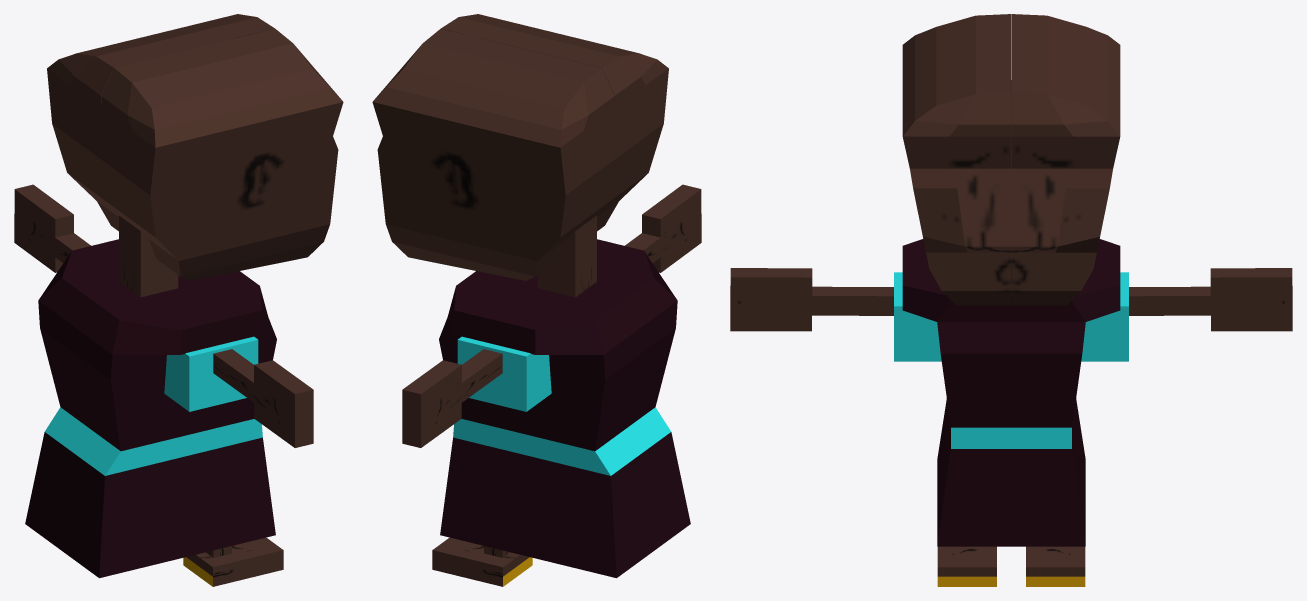
The model's file is copero.fbx.
The picture shows the model from 3 angles, left to right: view 1: azimuth 30°, elevation 25°; view 2: azimuth 150°, elevation 25°; view 3: azimuth 270°, elevation 25°; orthographic projection.
Visible parts, largest first — view 1: Cube; view 2: Cube; view 3: Cube.
Boxes of the visible parts, left/top/right/bottom form: Cube: left=14, top=14, right=343, bottom=586; Cube: left=372, top=14, right=701, bottom=586; Cube: left=730, top=14, right=1292, bottom=586.
Bounding box in the file's own units: 263 × 515 × 517.
4 materials, 1 textured.
